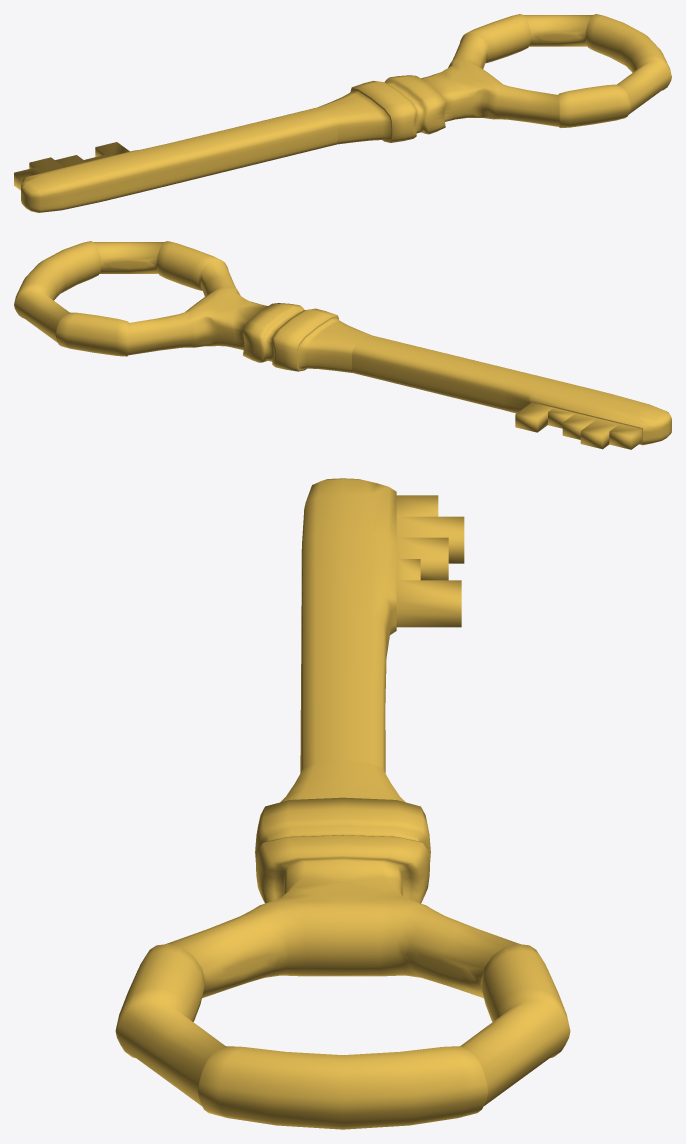
Rendered from door_key.fbx.
3 views of the same model, one above another, from view 1: azimuth 30°, elevation 25°; view 2: azimuth 150°, elevation 25°; view 3: azimuth 270°, elevation 25° (orthographic). The views are drawn at different scales.
Parts seen in each view (by area): view 1: door_key; view 2: door_key; view 3: door_key.
Boxes of the visible parts, box(x1,y1,x2,y2) form: door_key: box(14, 14, 671, 212); door_key: box(14, 241, 671, 449); door_key: box(115, 478, 570, 1129).
Size of what is drawn, in the model's own units: 672 by 38.96 by 211.
